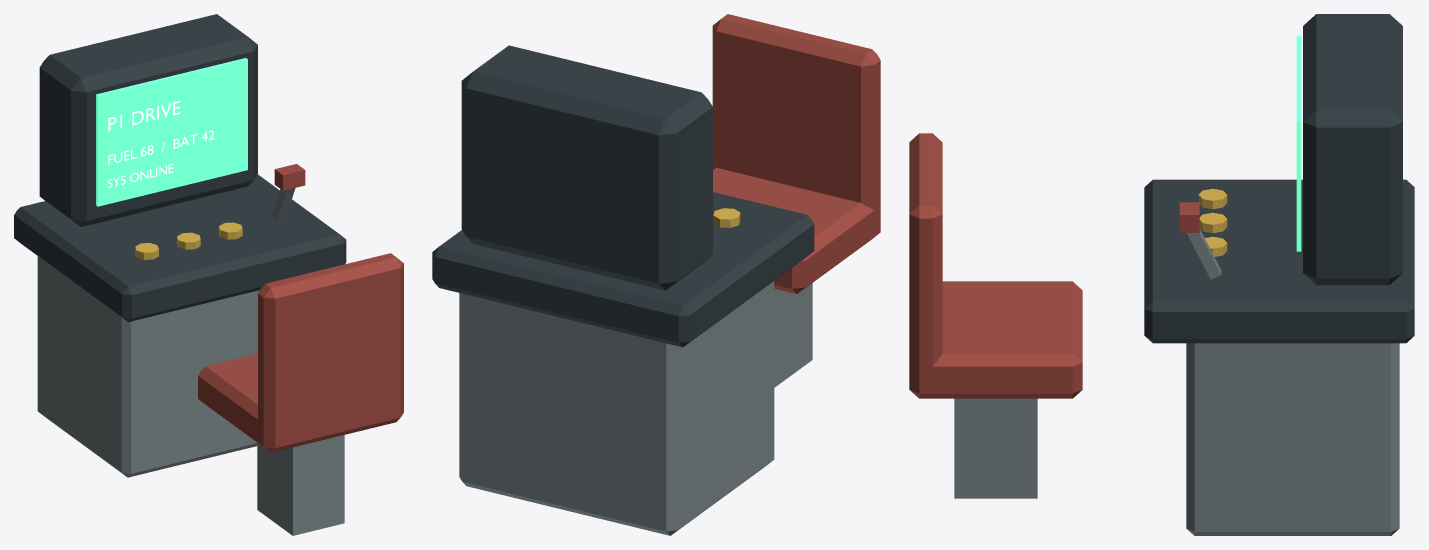
The model's file is DeadRail_Drive_Console.fbx.
3 views of the same model, side by side, from view 1: azimuth 30°, elevation 25°; view 2: azimuth 150°, elevation 25°; view 3: azimuth 270°, elevation 25° (orthographic). The views are drawn at different scales.
Visible parts, largest first — view 1: Console_Base.006, Console_Desk.006, Seat_Back.006, CRT_Housing.006, CRT_Screen.006, Operator_Seat.006, Seat_Pedestal.006, Lever_Grip.006, Lever.006; view 2: Console_Base.006, CRT_Housing.006, Seat_Back.006, Console_Desk.006, Operator_Seat.006, Seat_Pedestal.006; view 3: Console_Base.006, Console_Desk.006, CRT_Housing.006, Operator_Seat.006, Seat_Pedestal.006, Seat_Back.006, CRT_Screen.006, Lever.006, Lever_Grip.006.
Boxes of the visible parts, left/top/right/bottom form: Console_Base.006: left=37, top=256, right=259, bottom=477; Console_Desk.006: left=14, top=174, right=346, bottom=321; Seat_Back.006: left=258, top=253, right=403, bottom=424; CRT_Housing.006: left=39, top=14, right=257, bottom=226; CRT_Screen.006: left=96, top=58, right=247, bottom=206; Operator_Seat.006: left=198, top=353, right=403, bottom=452; Seat_Pedestal.006: left=257, top=435, right=344, bottom=535; Lever_Grip.006: left=274, top=164, right=305, bottom=190; Lever.006: left=272, top=188, right=295, bottom=222; Console_Base.006: left=459, top=281, right=774, bottom=535; CRT_Housing.006: left=461, top=45, right=712, bottom=290; Seat_Back.006: left=712, top=14, right=880, bottom=210; Console_Desk.006: left=432, top=192, right=814, bottom=347; Operator_Seat.006: left=713, top=168, right=880, bottom=293; Seat_Pedestal.006: left=774, top=283, right=812, bottom=387; Console_Base.006: left=1186, top=343, right=1399, bottom=535; Console_Desk.006: left=1144, top=179, right=1414, bottom=343; CRT_Housing.006: left=1303, top=14, right=1402, bottom=285; Operator_Seat.006: left=909, top=281, right=1082, bottom=398; Seat_Pedestal.006: left=954, top=398, right=1037, bottom=498; Seat_Back.006: left=909, top=133, right=942, bottom=366; CRT_Screen.006: left=1296, top=35, right=1301, bottom=251; Lever.006: left=1187, top=229, right=1221, bottom=279; Lever_Grip.006: left=1179, top=202, right=1199, bottom=232.
Bounding box in the file's own units: 0.91 × 1.4 × 1.52.
